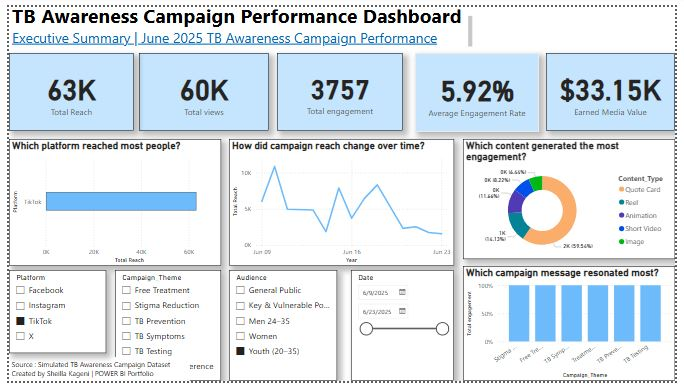

The dashboard page shown, as its layout file describes it:
{"tool":"powerbi","page":{"name":"Executive Summary","canvas":[1280,720],"ordinal":0},"visuals":[{"type":"card","fields":{"Values":["Fact TB_Campaign.Average Engagement Rate"]},"box":[780.8,88.5,238.5,151.9],"z":1},{"type":"card","fields":{"Values":["Fact TB_Campaign.Total views"]},"box":[250,88.5,250,150],"z":3},{"type":"card","fields":{"Values":["Fact TB_Campaign.Total engagement"]},"box":[515.4,88.5,242.3,150],"z":4},{"type":"clusteredBarChart","title":"Which platform reached  most people?","fields":{"Category":["Fact TB_Campaign.Platform"],"Y":["Fact TB_Campaign.Total Reach"]},"box":[0,253.8,407.7,244.2],"z":5},{"type":"lineChart","title":"How did campaign reach change over time?","fields":{"Y":["Fact TB_Campaign.Total Reach"],"Category":["Fact TB_Campaign.Date.Variation.Date Hierarchy.Year","Fact TB_Campaign.Date.Variation.Date Hierarchy.Month","Fact TB_Campaign.Date.Variation.Date Hierarchy.Day"]},"box":[423.1,253.8,432.7,244.2],"z":6},{"type":"hundredPercentStackedColumnChart","title":"Which campaign message resonated most?","fields":{"Category":["Fact TB_Campaign.Campaign_Theme"],"Y":["Fact TB_Campaign.Total engagement"]},"box":[872.3,498.1,407.7,221.2],"z":8},{"type":"slicer","fields":{"Values":["Fact TB_Campaign.Campaign_Theme"]},"box":[203.8,505.8,203.8,213.5],"z":10},{"type":"slicer","fields":{"Values":["Fact TB_Campaign.Audience"]},"box":[423.1,505.8,207.7,213.5],"z":11},{"type":"slicer","fields":{"Values":["Fact TB_Campaign.Date"]},"box":[657.7,505.8,198.1,213.5],"z":12},{"type":"card","fields":{"Values":["Fact TB_Campaign.Total EMV"]},"box":[1032.7,88.5,248.1,150],"z":13},{"type":"donutChart","title":"Which content generated the most engagement?","fields":{"Y":["Fact TB_Campaign.Total engagement"],"Category":["Fact TB_Campaign.Content_Type"]},"box":[873.1,253.8,407.7,230.8],"z":14},{"type":"textbox","box":[151.6,99.2,13.1,13.1],"z":15},{"type":"textbox","box":[0,0,896.2,80.8],"z":17},{"type":"card","fields":{"Values":["Fact TB_Campaign.Total Reach"]},"box":[0,88.5,240.4,150],"z":18},{"type":"textbox","box":[0,673.1,348.1,46.2],"z":19},{"type":"slicer","fields":{"Values":["Fact TB_Campaign.Platform"]},"box":[0,505.8,186.5,159.6],"z":20}]}

Visuals, with their boxes in screenshot pixels (x1, y1, x2, y2), scaled from the page's 1280x720 canvas onto the 684x389 screenshot:
card - Fact TB_Campaign.Average Engagement Rate: <bbox>417, 48, 545, 130</bbox>
card - Fact TB_Campaign.Total views: <bbox>134, 48, 267, 129</bbox>
card - Fact TB_Campaign.Total engagement: <bbox>275, 48, 405, 129</bbox>
"Which platform reached  most people?" clusteredBarChart: <bbox>0, 137, 218, 269</bbox>
"How did campaign reach change over time?" lineChart: <bbox>226, 137, 457, 269</bbox>
"Which campaign message resonated most?" hundredPercentStackedColumnChart: <bbox>466, 269, 683, 388</bbox>
slicer - Fact TB_Campaign.Campaign_Theme: <bbox>109, 273, 218, 388</bbox>
slicer - Fact TB_Campaign.Audience: <bbox>226, 273, 337, 388</bbox>
slicer - Fact TB_Campaign.Date: <bbox>351, 273, 457, 388</bbox>
card - Fact TB_Campaign.Total EMV: <bbox>552, 48, 683, 129</bbox>
"Which content generated the most engagement?" donutChart: <bbox>467, 137, 683, 262</bbox>
textbox: <bbox>81, 54, 88, 61</bbox>
textbox: <bbox>0, 0, 479, 44</bbox>
card - Fact TB_Campaign.Total Reach: <bbox>0, 48, 128, 129</bbox>
textbox: <bbox>0, 364, 186, 388</bbox>
slicer - Fact TB_Campaign.Platform: <bbox>0, 273, 100, 360</bbox>
